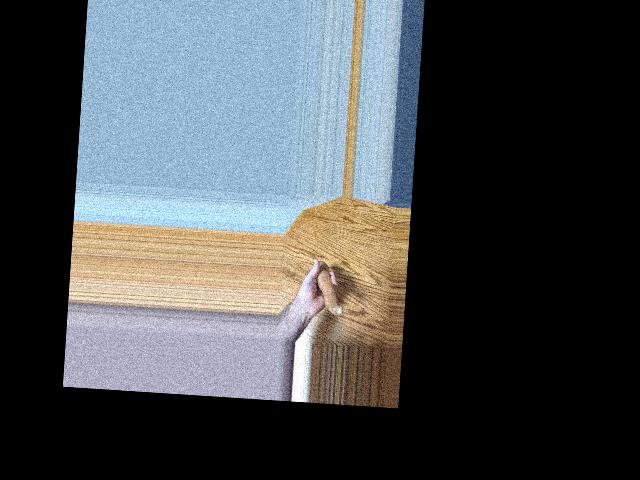sweet_potato: (312, 261, 344, 317)
